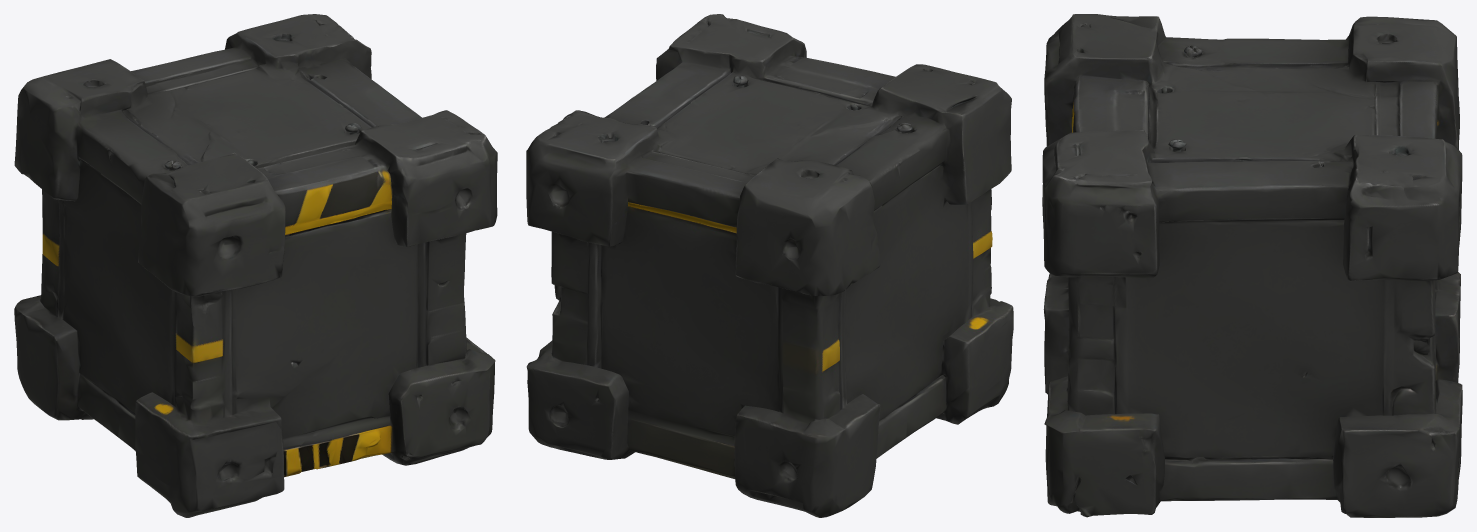
Rendered from tripo_convert_84b6b500-f4c4-4533-8df9-8b7331f4b9af.fbx.
3 views of the same model, side by side, from view 1: azimuth 30°, elevation 25°; view 2: azimuth 150°, elevation 25°; view 3: azimuth 270°, elevation 25° (orthographic). The views are drawn at different scales.
Visible parts, largest first — view 1: tripo_node_84b6b500; view 2: tripo_node_84b6b500; view 3: tripo_node_84b6b500.
Part boxes in pixels (<box>): tripo_node_84b6b500: <box>14,14,497,517</box>; tripo_node_84b6b500: <box>526,14,1013,517</box>; tripo_node_84b6b500: <box>1042,14,1462,517</box>.
Bounding box in the file's own units: 0.963 × 0.9171 × 0.9797.
1 material, 1 textured.
